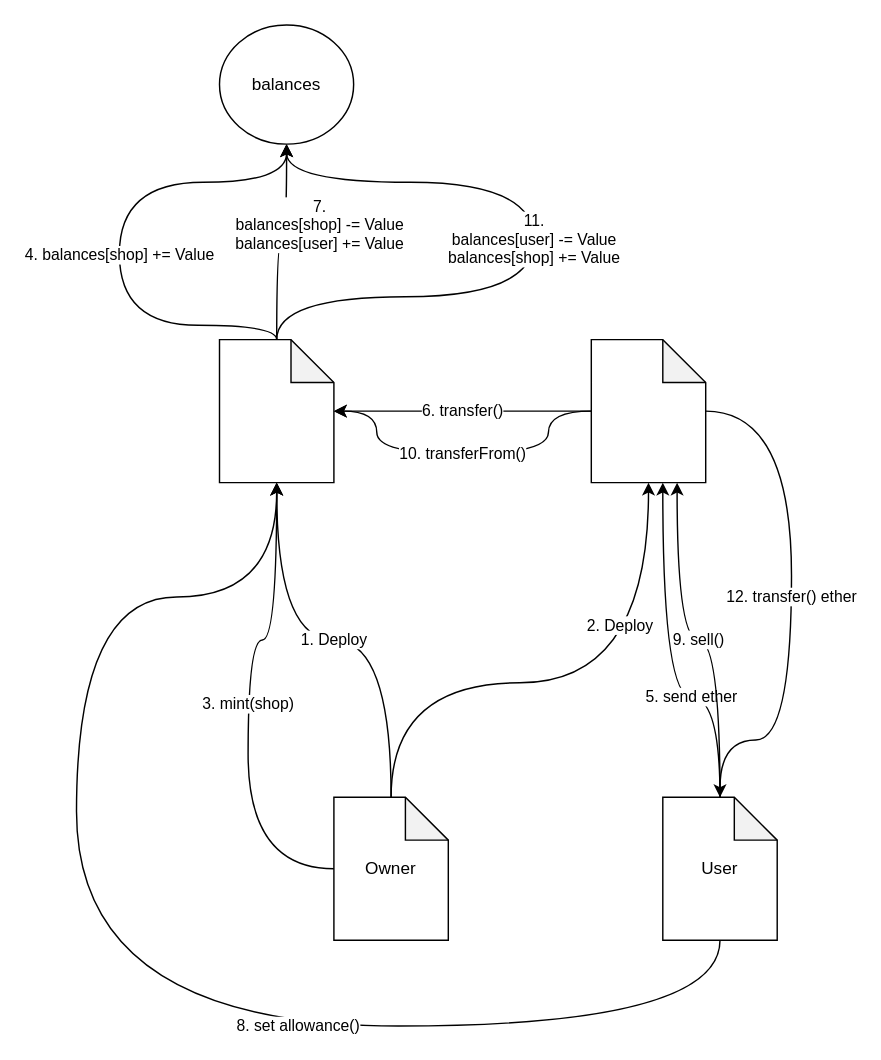
The diagram is 881 pixels wide and 1060 high, and some of its shapes have lost their labels. The shapes that lost their labels are listed below. From the top down, each one's centre as x and y in pixels, then its label:
point (276, 410): ERC20 Token
point (648, 410): Shop
